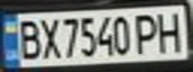0: (112, 12, 133, 55)
4: (93, 12, 115, 57)
5: (78, 14, 96, 57)
7: (60, 15, 81, 58)
B: (12, 16, 42, 61)
H: (151, 8, 190, 54)
P: (133, 10, 163, 55)
X: (36, 15, 60, 60)
